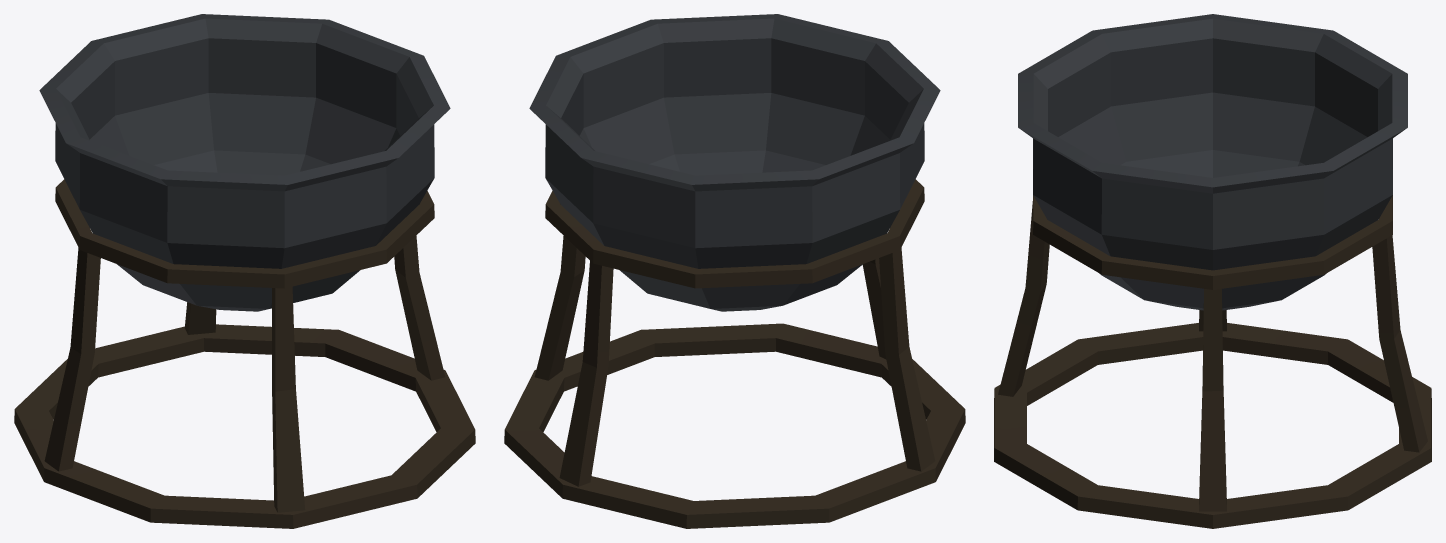
The model's file is castle_cauldron.gltf.
3 views of the same model, side by side, from view 1: azimuth 30°, elevation 25°; view 2: azimuth 150°, elevation 25°; view 3: azimuth 270°, elevation 25° (orthographic).
Visible parts, largest first — view 1: castle_cauldron; view 2: castle_cauldron; view 3: castle_cauldron.
Boxes of the visible parts, x1,y1,x2,y2 form: castle_cauldron: (14, 14, 475, 528); castle_cauldron: (504, 14, 965, 528); castle_cauldron: (994, 14, 1431, 528).
Size of the model in its own units: 0.8884 by 0.7105 by 0.8449.
1 material, 1 textured.
